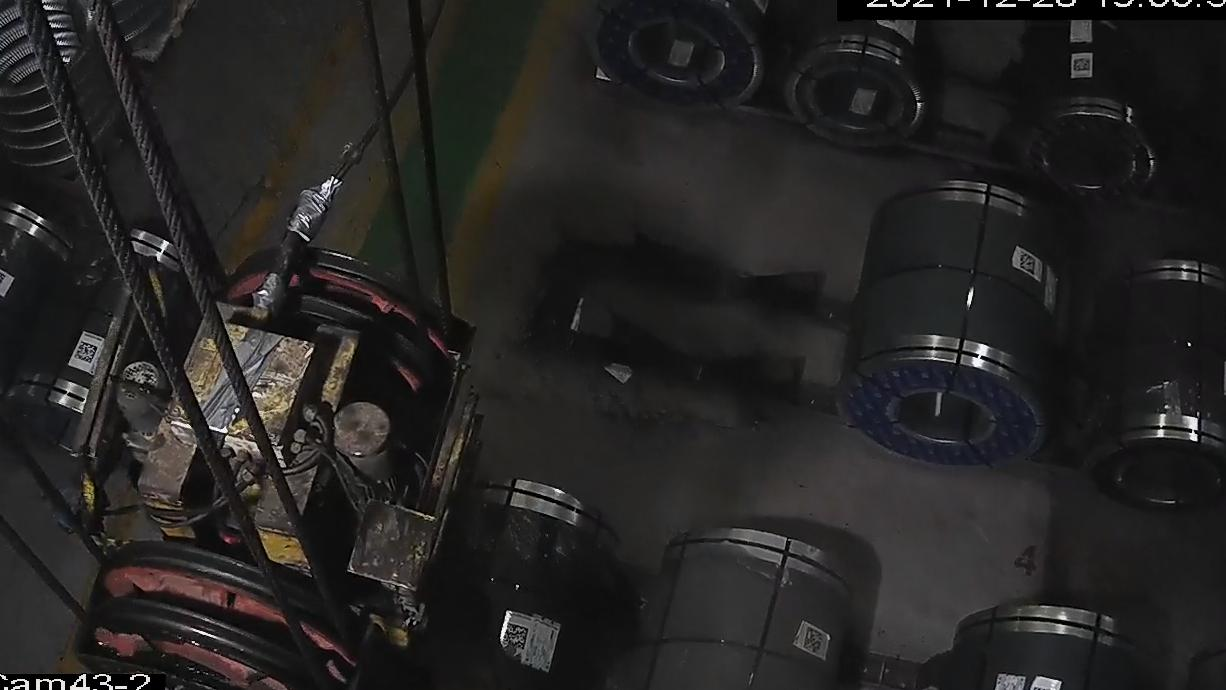data matrix: (501, 622, 532, 653), (802, 626, 829, 658), (74, 340, 99, 365), (1019, 250, 1039, 278), (1073, 56, 1094, 75), (1, 267, 9, 293)
